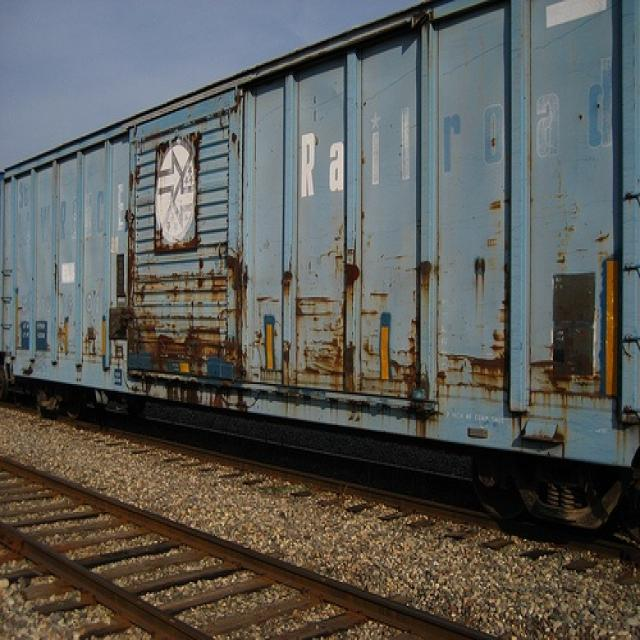train: (1, 3, 639, 536)
